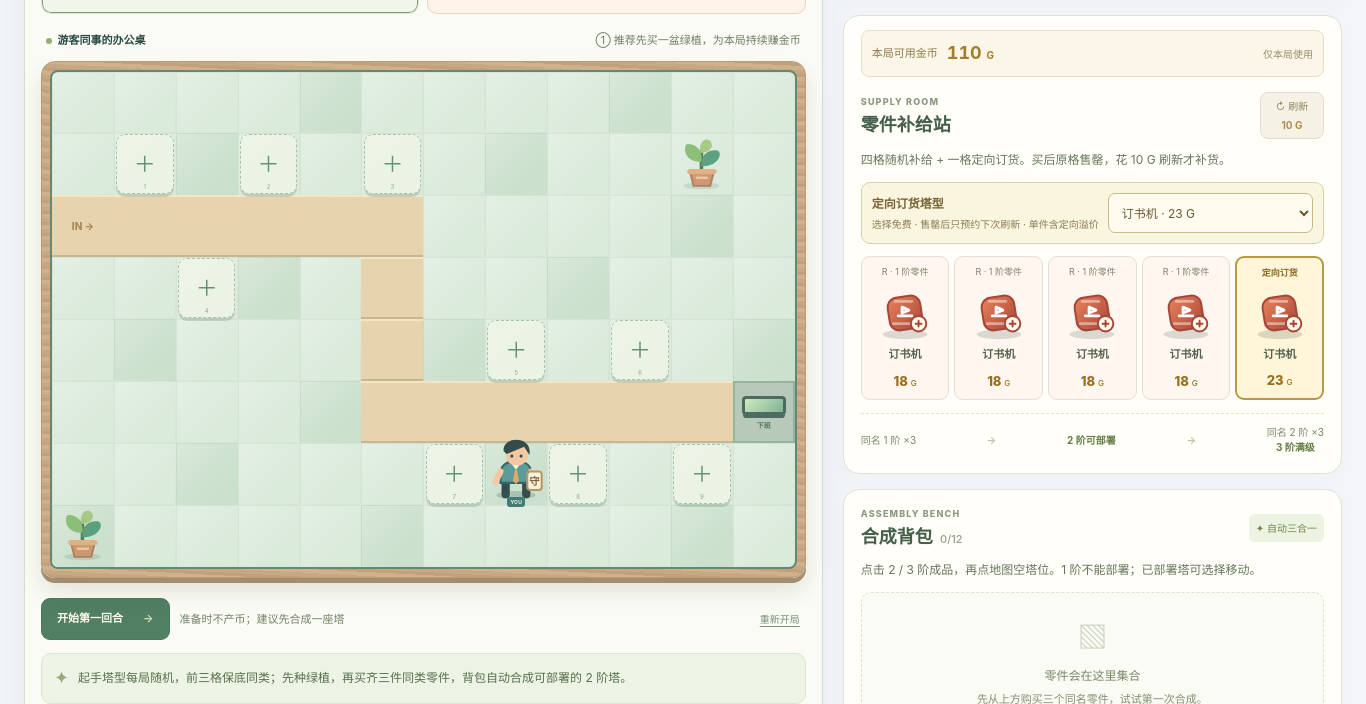
Test: WorkstationTowerDefensePage two-round merging edition › cannot refill a sold-out focused slot by freely changing the order type
(page scrolled)
Click the button with aria-label "购买第 5 格订书机零件" at (1280, 328), box [1235,256,1324,400]
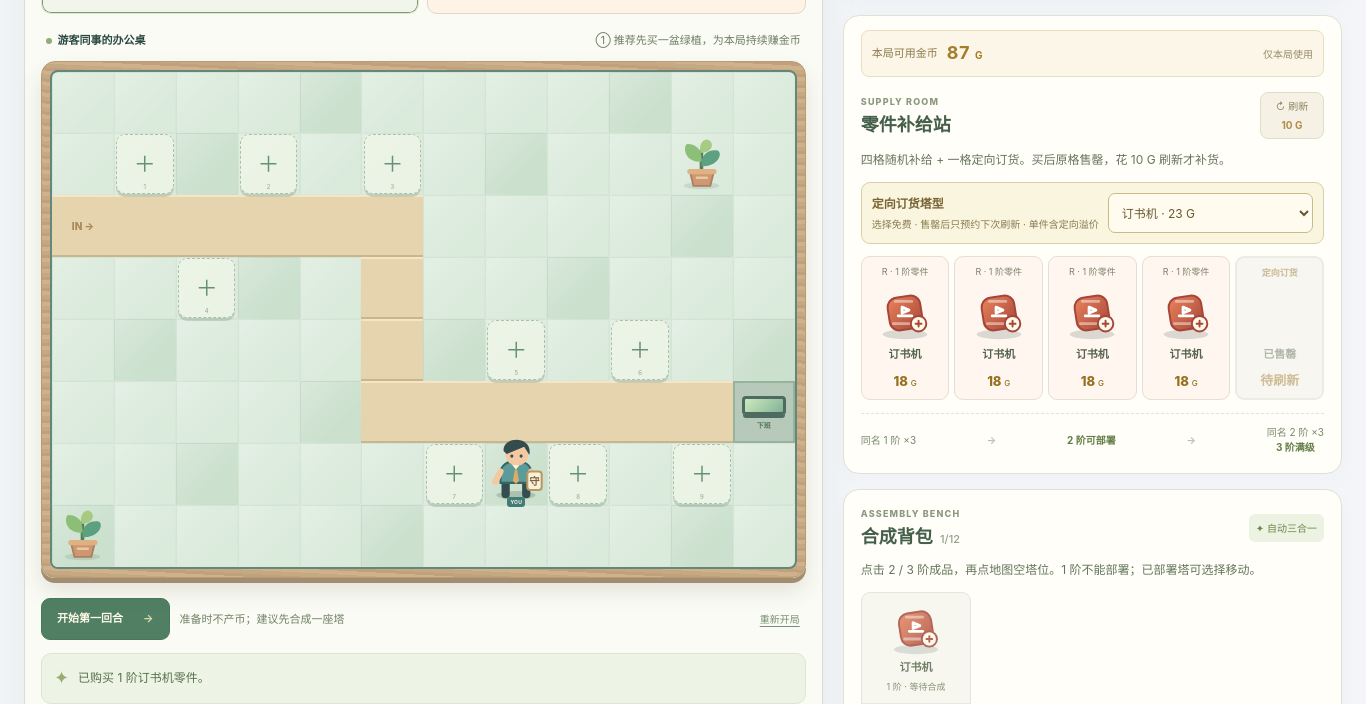
Select "打印机 · 28 G" in the dropdown labelled "定向订货塔型" at (1210, 213), box [1108,193,1313,233]
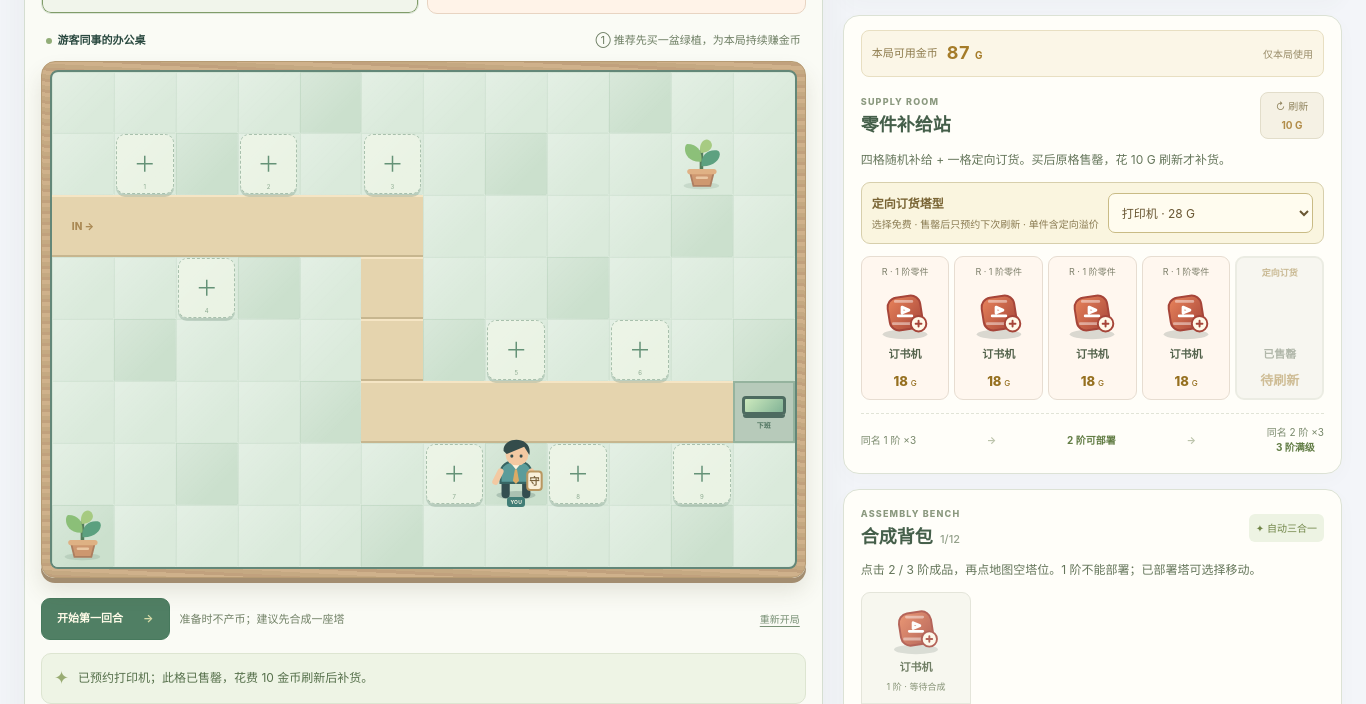
Expected: the button with aria-label "第 5 格已售罄，刷新后补货" is disabled, [1235,256,1324,400]
Expected: the message shows "预约打印机", [78,670,373,685]
Click the button with aria-label "刷新零件商店" at (1292, 116), box [1260,92,1324,139]
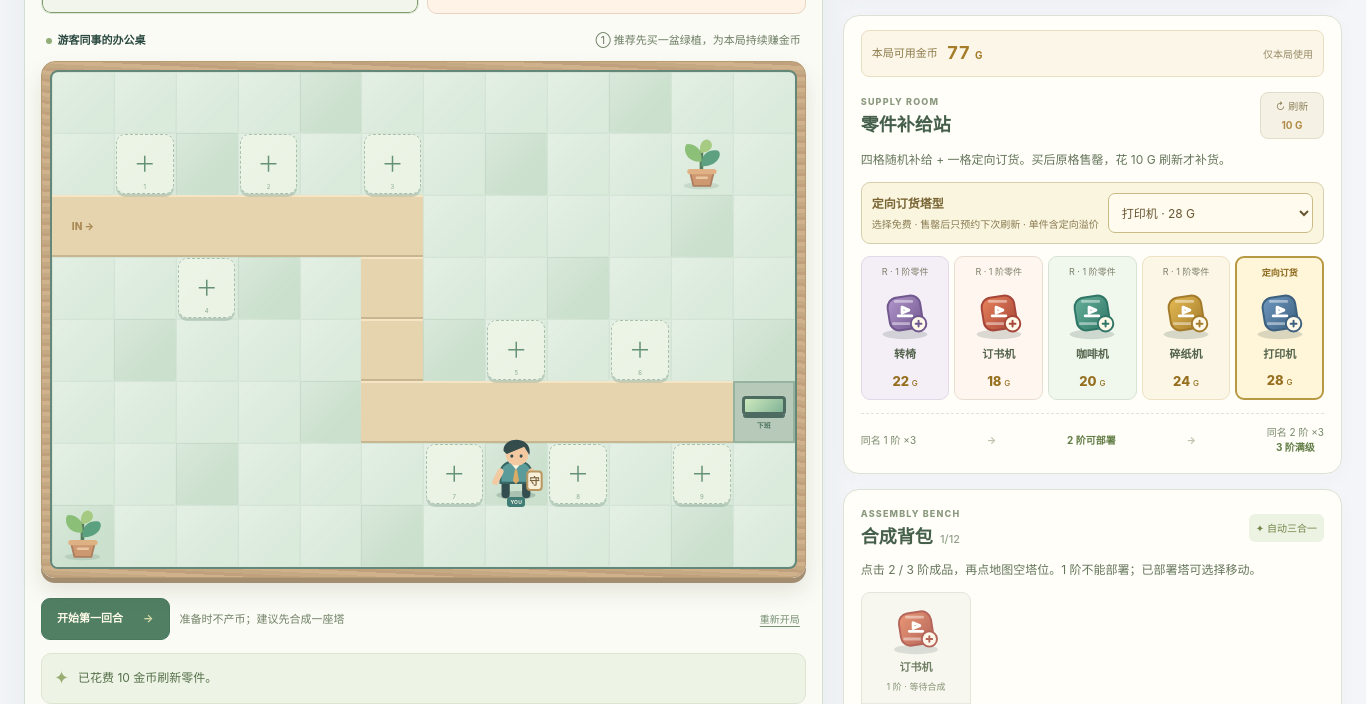
Expected: the button with aria-label "购买第 5 格打印机" is enabled, [1235,256,1324,400]
